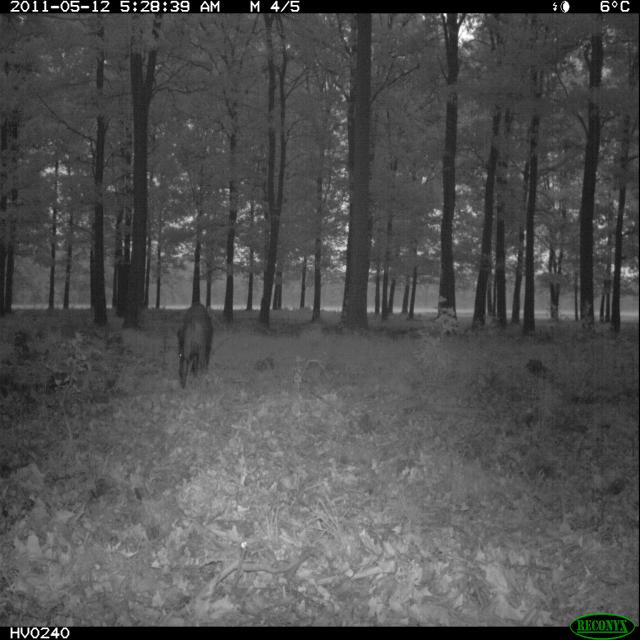boar: (161, 308, 224, 395)
